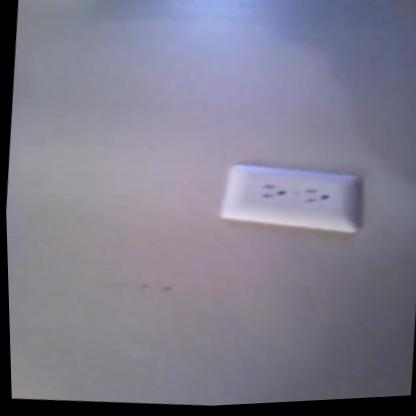OUTLET: (218, 161, 361, 237)
